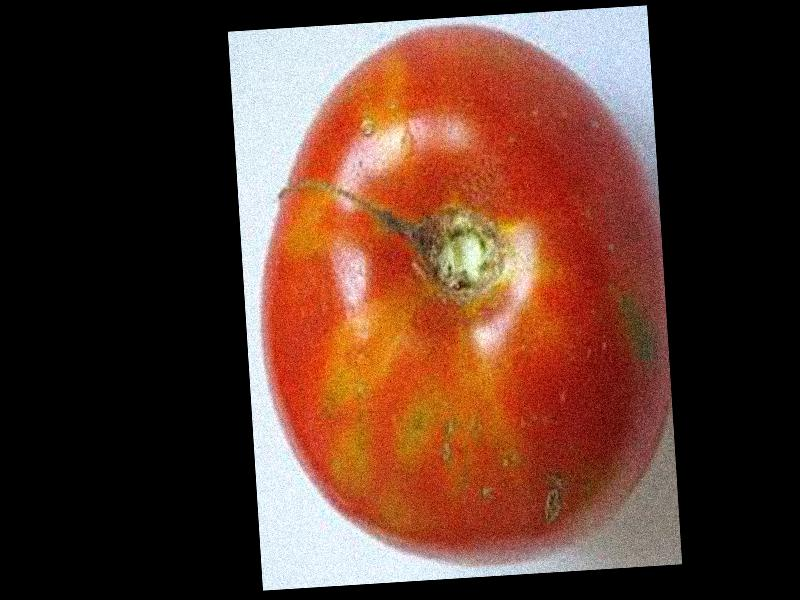Tomato: (243, 10, 679, 575)
